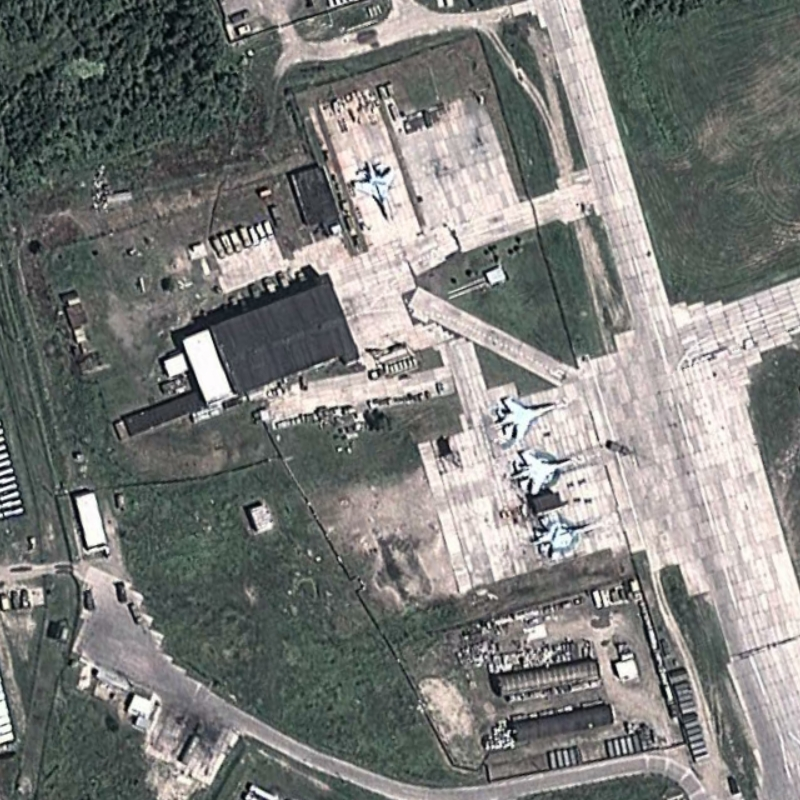A1: (492, 392, 561, 447), (529, 511, 604, 561), (350, 159, 403, 229), (508, 446, 574, 500)
